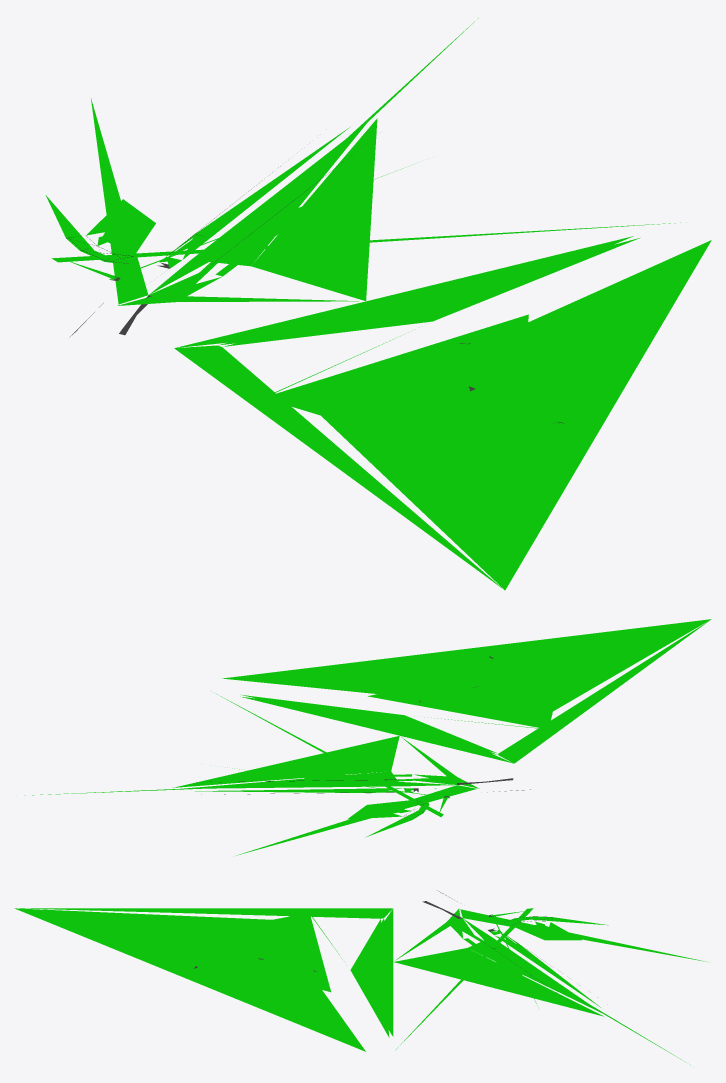
3 views of the same model, one above another, from view 1: azimuth 30°, elevation 25°; view 2: azimuth 150°, elevation 25°; view 3: azimuth 270°, elevation 25° (orthographic). The views are drawn at different scales.
Size of the model in its own units: 343 by 0.12 by 552.
